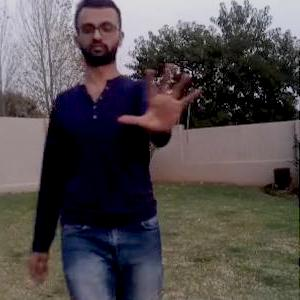follow_hand: (117, 57, 205, 136)
